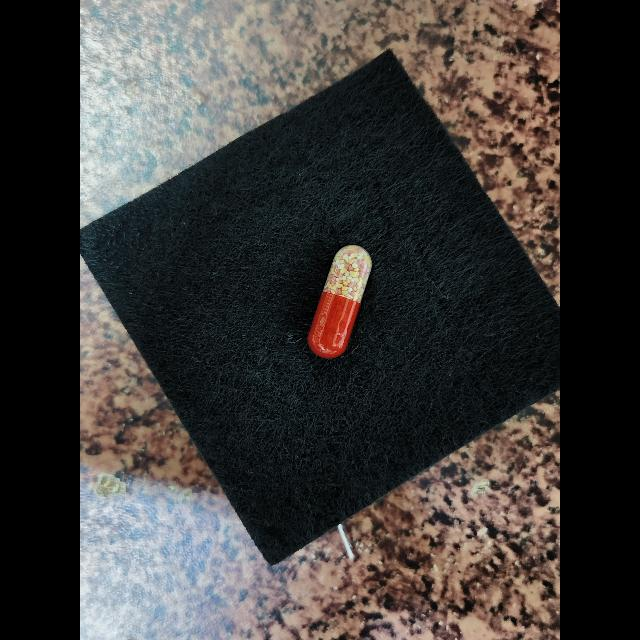Intact Capsule: (308, 245, 372, 359)
